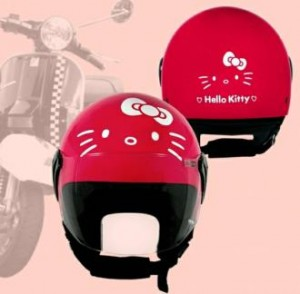helmet: (51, 102, 203, 249), (169, 11, 288, 123)
